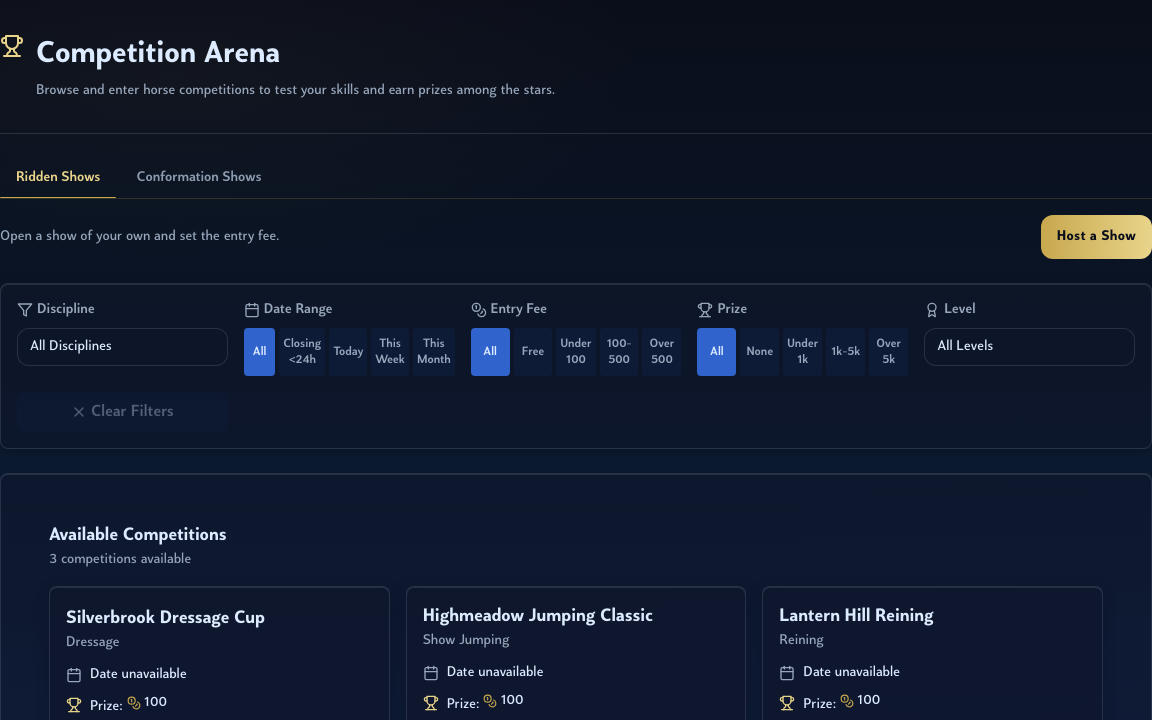
it: CompetitionBrowserPage — filters apply to the list (Equoria-oey96.12) › offers "closing in the next 24 hours" and applies it to the close time
expect the heading "Silverbrook Dressage Cup" is shown: met, box [66,609,265,628]
Click the button with test id "filter-date-closing" at [302, 352], box [279,328,325,376]
(page scrolled)
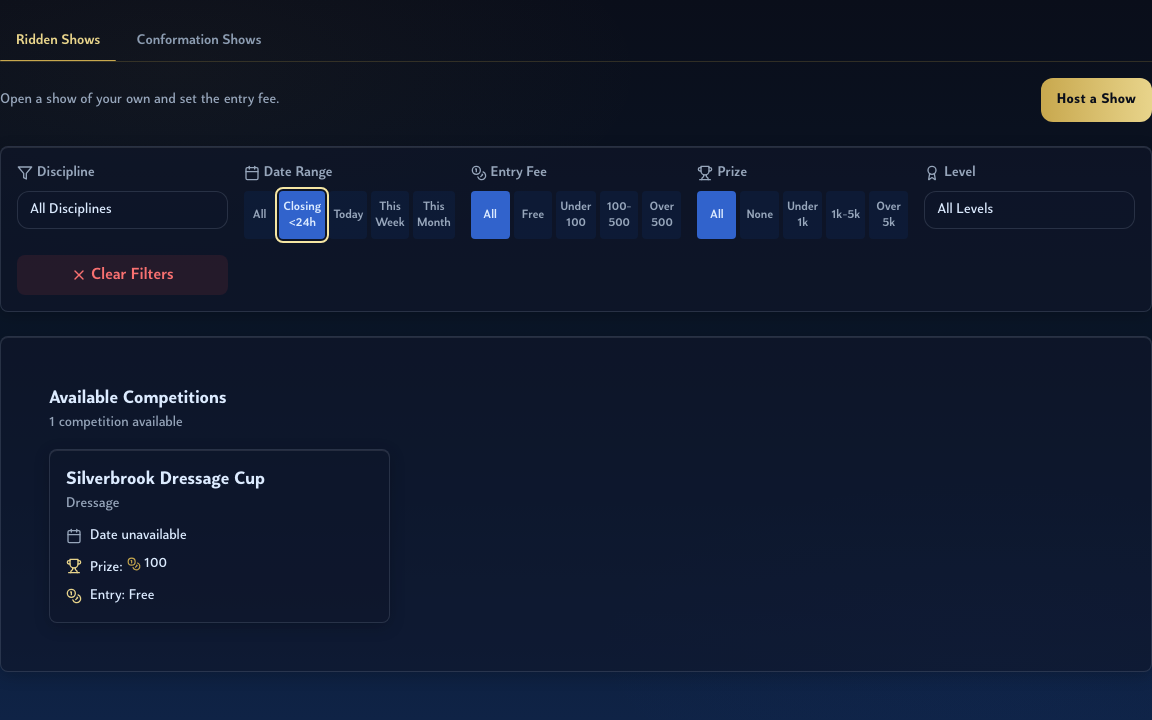
expect the button with test id "competition-card" shows "Silverbrook Dressage Cup": met, box [49,449,390,623]
expect the number of buttons with test id "competition-card" is 1: met, box [49,449,390,623]
